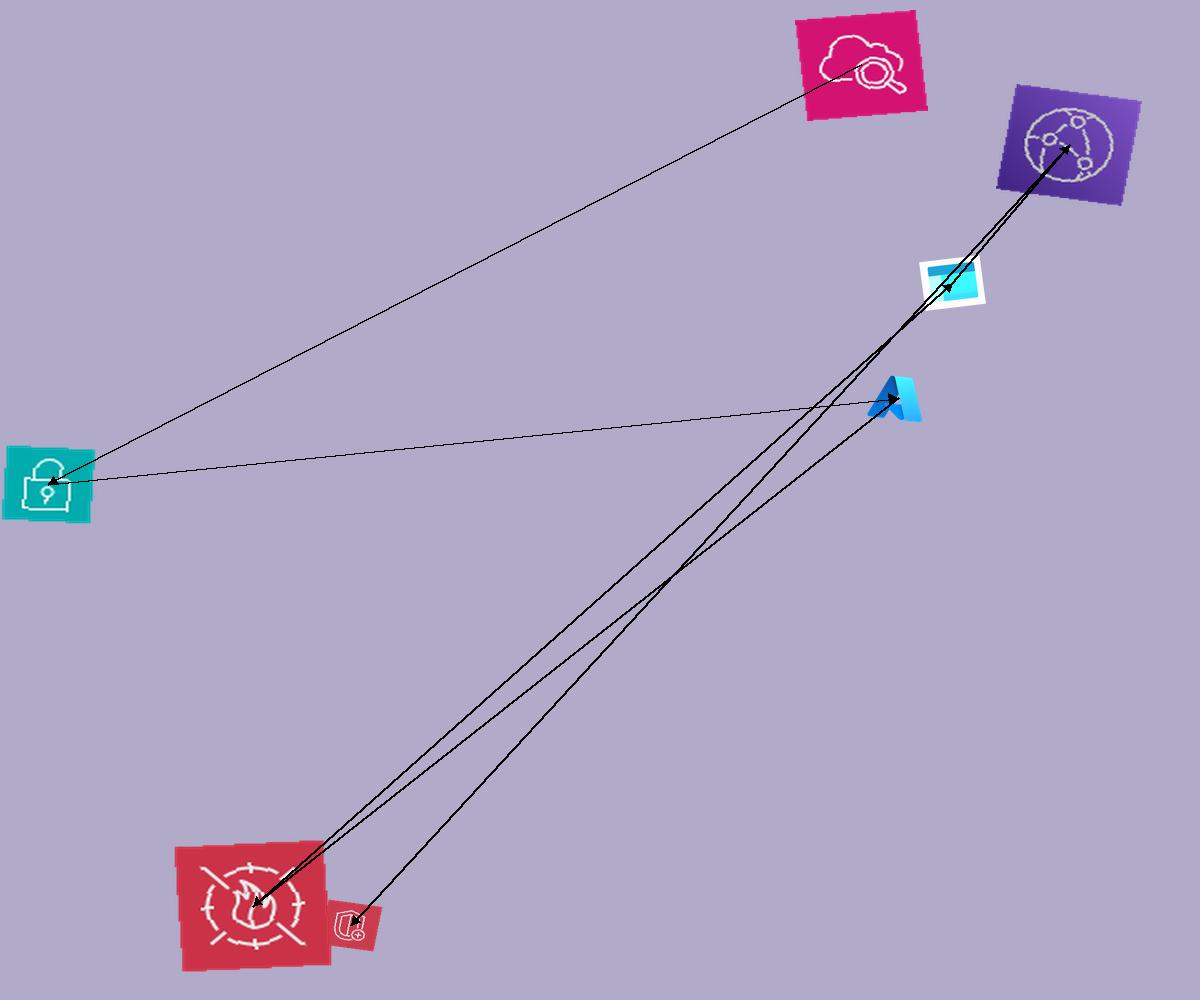AWS-CloudFront: (996, 84, 1142, 206)
AWS-CloudWatch: (795, 10, 928, 121)
AWS-Private-subnet: (0, 444, 97, 525)
AWS-Shield: (319, 899, 383, 952)
AWS-WAF: (173, 839, 333, 973)
Azure_management-portal: (919, 255, 986, 311)
Azure_services: (864, 370, 932, 426)
